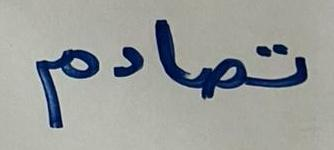alef: (147, 10, 191, 107)
dal: (106, 36, 145, 99)
meem: (27, 26, 102, 137)
sad: (193, 43, 247, 116)
teh: (249, 31, 309, 111)
